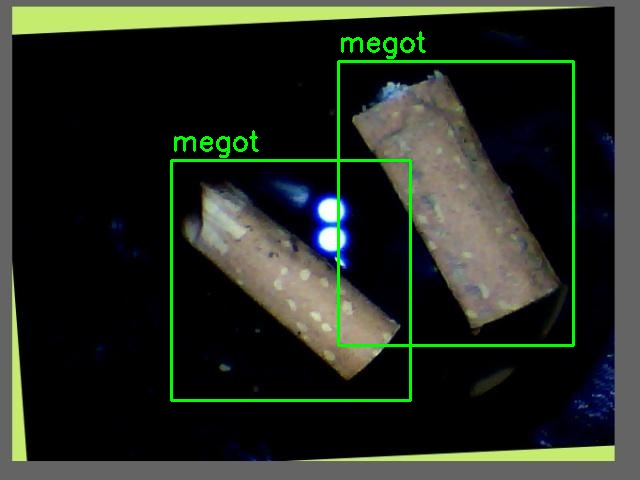megot: (338, 61, 573, 345), (171, 160, 410, 400)
